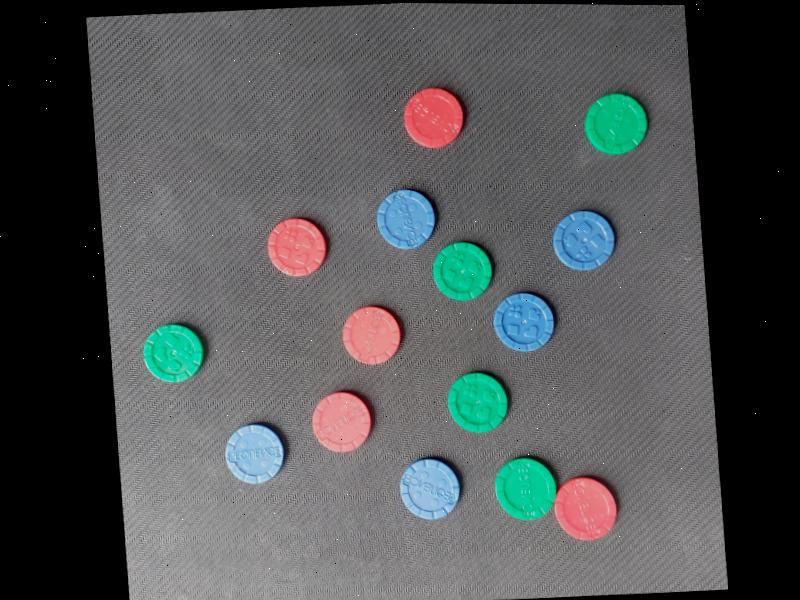Blue_Token: (369, 179, 442, 255), (394, 452, 466, 524), (548, 205, 619, 276), (219, 418, 288, 488), (489, 287, 557, 356)
Green_Token: (441, 364, 513, 438), (136, 317, 210, 389), (489, 454, 561, 526), (427, 235, 497, 306), (580, 88, 651, 157)
Red_Token: (306, 383, 376, 457), (398, 83, 469, 152), (336, 301, 406, 368), (262, 215, 331, 281)
